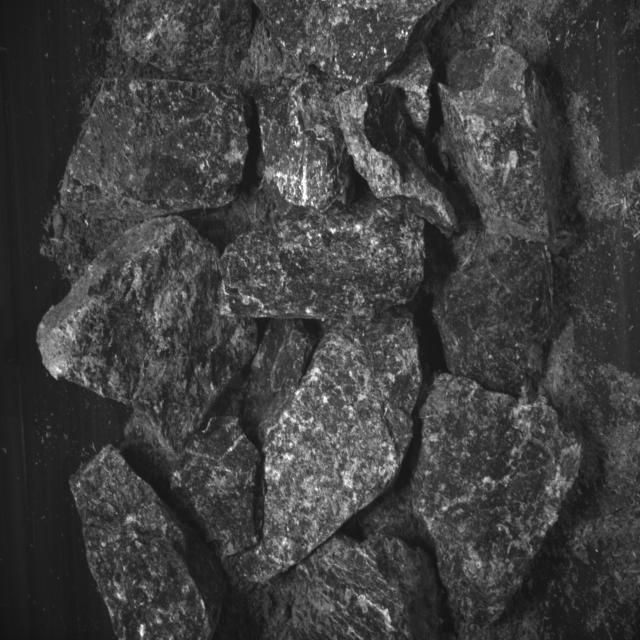Stones: (39, 218, 257, 457), (231, 316, 422, 583), (412, 374, 581, 626), (71, 446, 224, 640), (61, 80, 249, 221), (440, 47, 561, 243), (221, 534, 442, 640), (434, 227, 554, 395), (335, 85, 459, 234), (242, 1, 442, 90), (259, 71, 354, 211), (172, 417, 261, 559), (115, 1, 252, 83), (244, 321, 316, 444), (386, 42, 434, 135)
